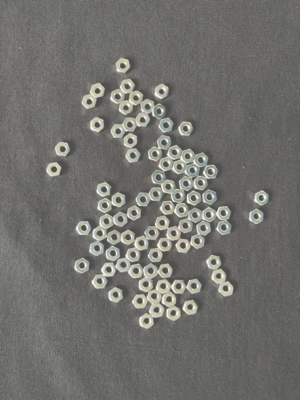nut: (149, 303, 165, 319), (183, 300, 199, 316), (82, 94, 98, 110), (140, 313, 155, 329), (162, 292, 177, 308), (109, 287, 124, 303), (92, 275, 108, 290), (187, 279, 202, 295), (157, 279, 172, 295), (139, 277, 154, 293), (75, 258, 90, 274), (158, 264, 174, 279), (249, 209, 264, 225), (254, 191, 270, 206), (148, 248, 164, 263), (90, 241, 105, 257), (191, 234, 206, 250), (176, 239, 192, 254), (167, 226, 182, 242), (178, 219, 194, 234), (155, 216, 171, 231), (187, 191, 202, 207), (97, 182, 112, 198), (55, 142, 71, 157), (151, 170, 167, 185), (168, 145, 183, 161), (159, 118, 175, 133), (90, 117, 105, 133), (90, 83, 105, 99), (116, 58, 131, 74), (157, 238, 174, 252), (133, 294, 148, 309), (219, 282, 234, 297), (212, 269, 227, 284), (207, 255, 222, 270), (129, 264, 144, 279), (116, 258, 131, 273), (126, 248, 141, 263), (217, 221, 232, 236), (217, 206, 232, 221), (135, 236, 150, 251), (197, 221, 212, 236), (145, 226, 160, 241), (175, 203, 190, 218), (161, 201, 176, 216), (203, 190, 218, 205), (171, 189, 186, 204), (98, 199, 113, 214), (149, 187, 164, 202), (161, 180, 176, 195), (179, 177, 194, 192), (194, 176, 209, 191), (204, 165, 219, 180), (194, 153, 209, 168), (173, 160, 188, 175), (159, 157, 174, 172), (181, 149, 196, 164), (157, 135, 172, 150), (126, 148, 141, 163), (179, 122, 194, 137), (111, 124, 126, 139), (111, 90, 126, 105), (167, 306, 181, 322), (144, 263, 158, 279), (102, 263, 118, 277), (106, 246, 120, 262), (122, 230, 136, 246), (93, 226, 107, 242), (189, 208, 203, 224), (114, 212, 128, 228), (136, 193, 152, 207), (185, 164, 201, 178), (152, 104, 166, 120), (155, 84, 169, 100), (148, 290, 162, 305), (172, 280, 187, 294), (203, 208, 217, 223), (128, 206, 142, 221), (100, 214, 114, 229), (112, 193, 126, 208), (47, 163, 62, 177), (149, 147, 163, 162), (124, 134, 138, 149), (123, 118, 138, 132), (136, 113, 151, 127), (141, 99, 155, 114), (120, 101, 134, 116), (129, 91, 143, 106), (120, 80, 135, 94), (76, 222, 92, 235), (108, 230, 121, 245)
